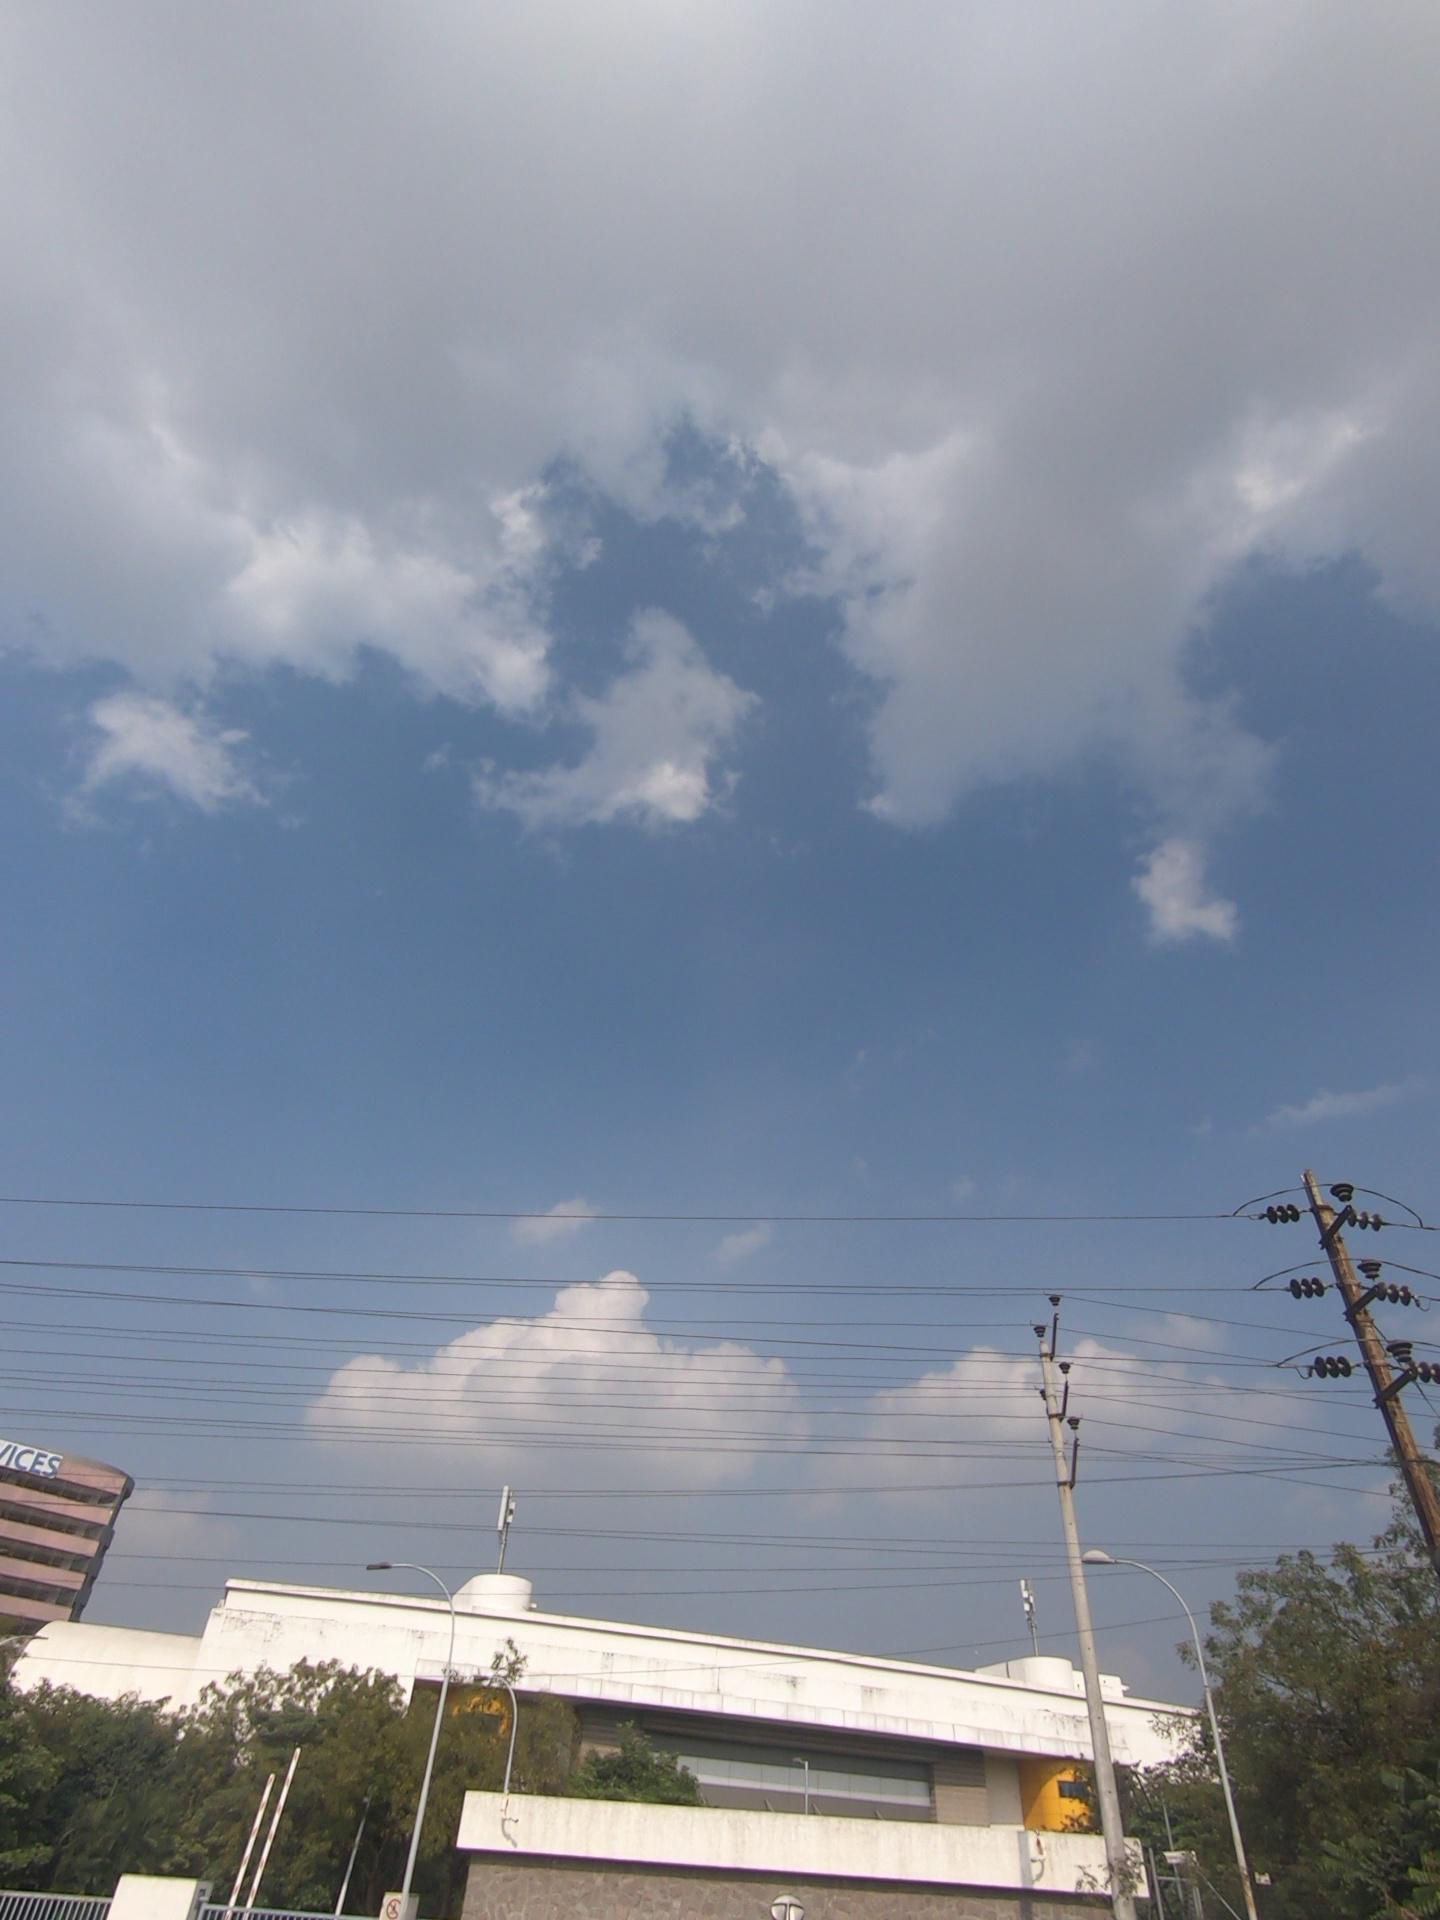off: (245, 1716, 431, 1876)
